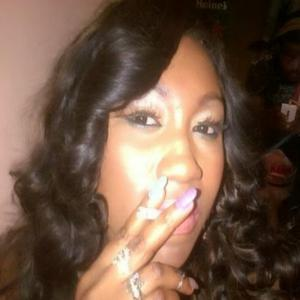cigarette: (131, 201, 184, 226)
